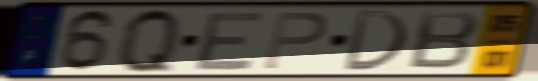6: (58, 7, 122, 75)
B: (405, 9, 482, 72)
D: (339, 8, 411, 73)
E: (191, 9, 269, 72)
P: (260, 10, 330, 72)
Q: (117, 5, 183, 77)
